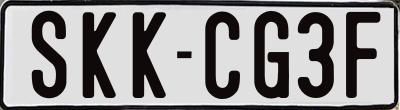3: (298, 10, 336, 100)
C: (205, 9, 240, 99)
F: (343, 9, 382, 97)
G: (254, 11, 289, 101)
K: (130, 11, 168, 102), (82, 12, 121, 98)
S: (32, 9, 68, 96)
